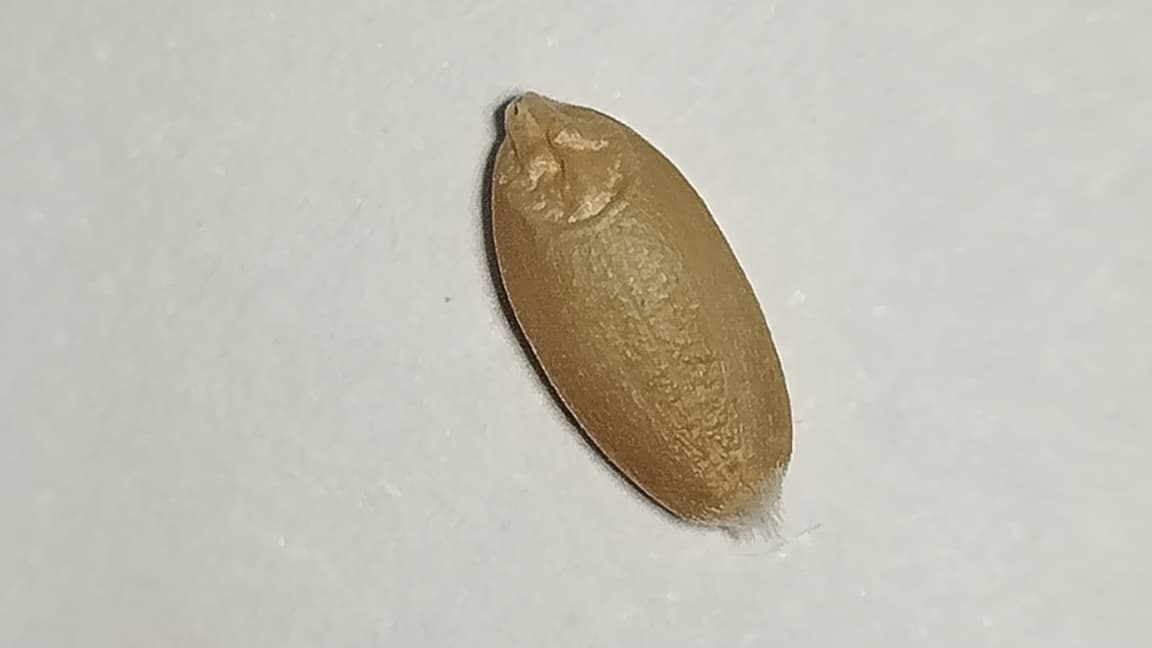healthy: (490, 93, 790, 521)
